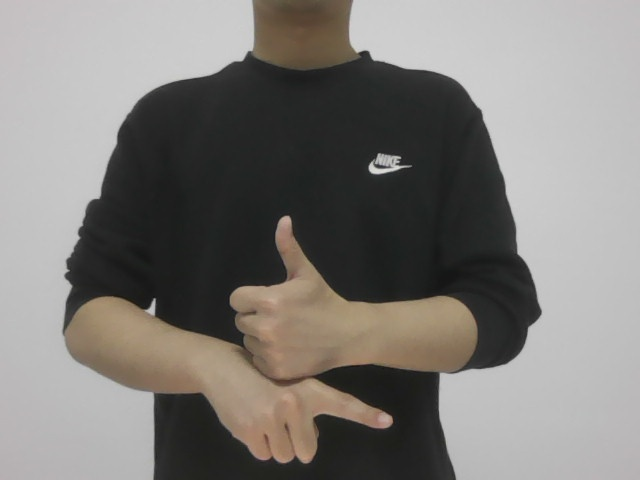birthday: (204, 214, 402, 474)
